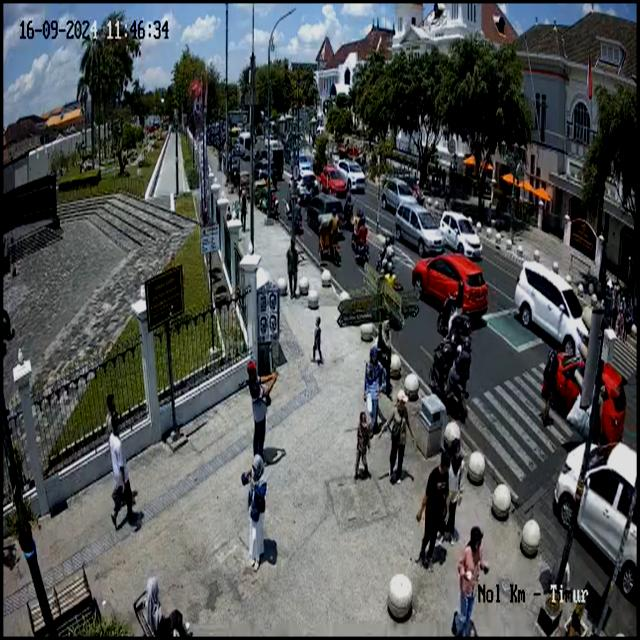Car: (549, 421, 638, 605), (509, 258, 593, 361), (549, 338, 626, 442), (412, 246, 492, 318), (399, 203, 443, 258), (436, 203, 477, 254), (374, 170, 421, 210), (310, 196, 346, 239), (336, 156, 369, 196), (326, 158, 348, 199)
Motorcycle: (432, 315, 483, 436), (316, 218, 348, 278), (379, 227, 407, 293), (354, 207, 380, 278)
